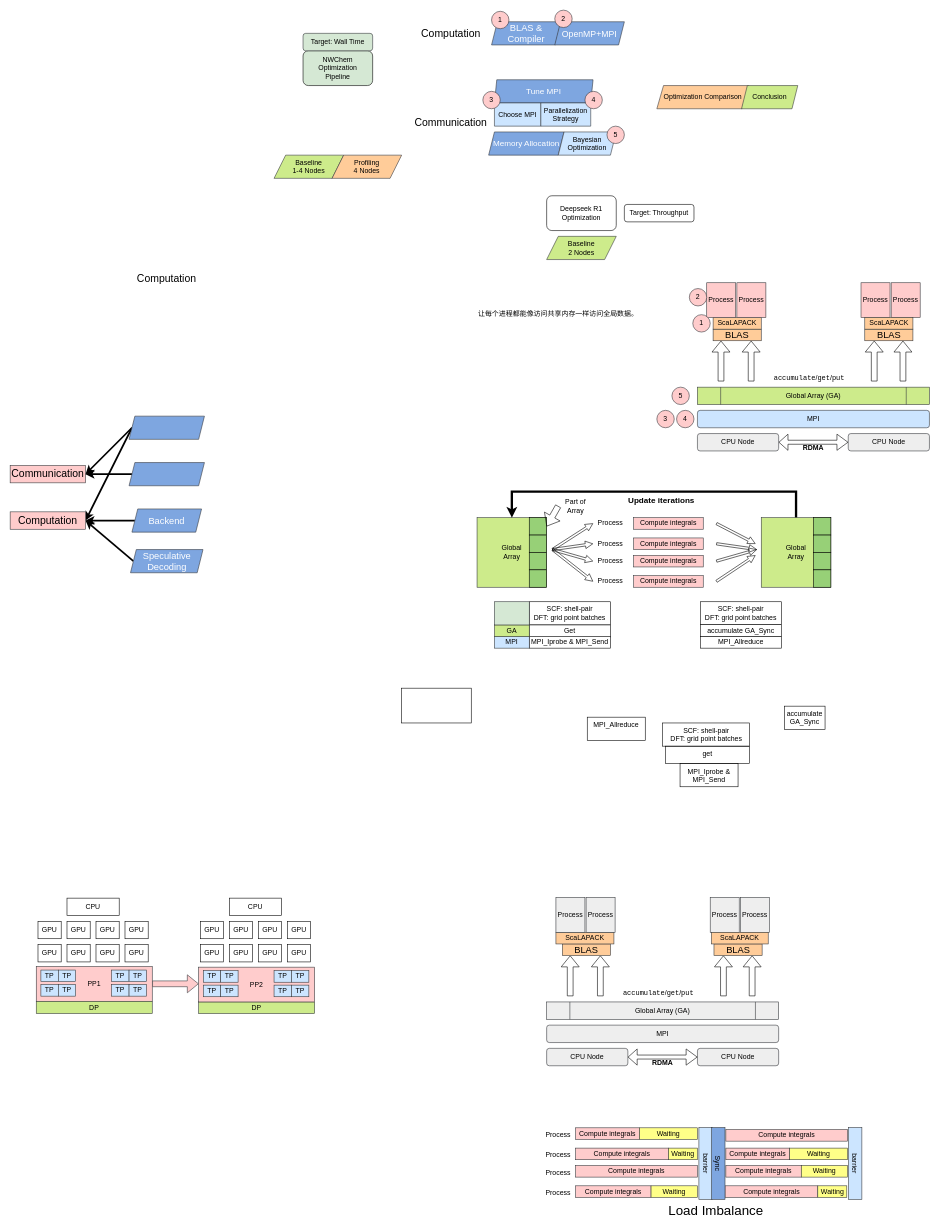
Image size: 940x1229. Some labels were removed from this diagram. The shapes that lost their labels are listed below. From the top down, each one's centre as x and y in pixels, then its label:
At point 166,427: "Parallel Strategy".
At point 166,474: "NCCL Tuning".
At point 511,613: "NWChem".
At point 436,705: "Optimization".
